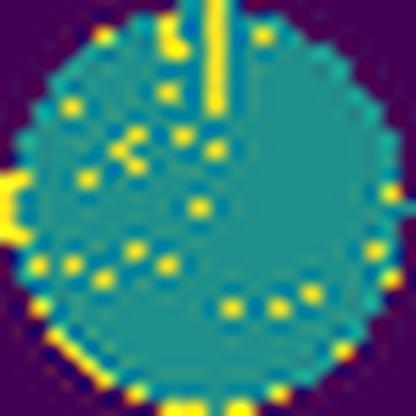Scratch: (197, 0, 237, 122)
